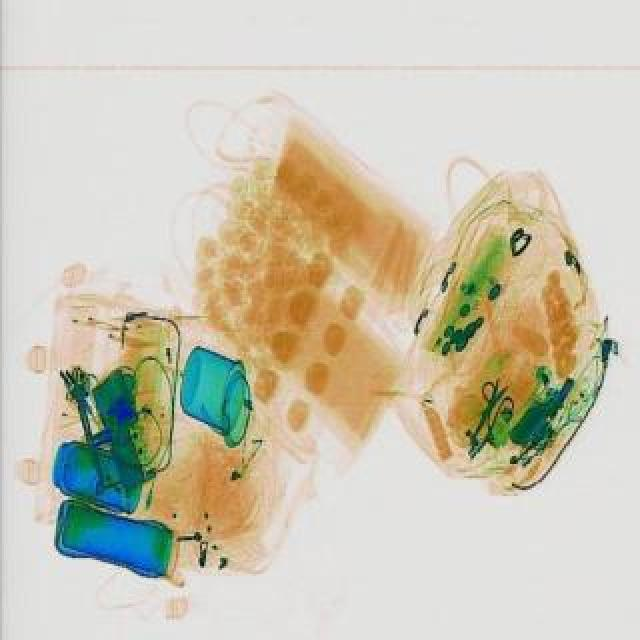pliers: (458, 376, 522, 446)
